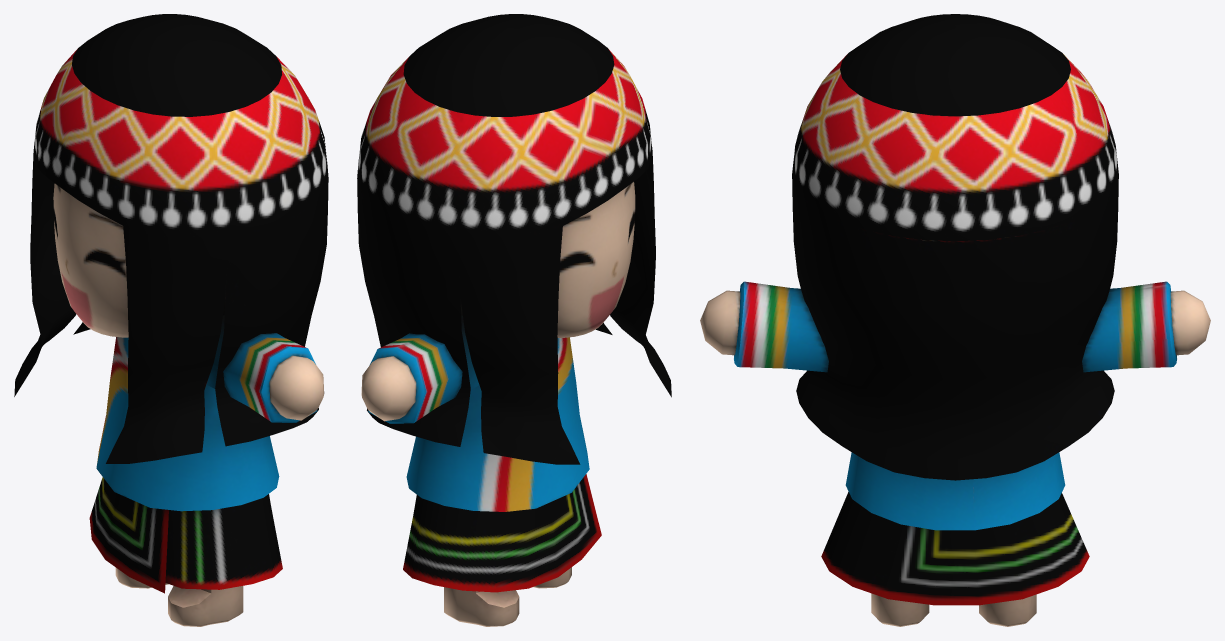
The model's file is women.gltf.
3 renders of one model, left to right at view 1: azimuth 30°, elevation 25°; view 2: azimuth 150°, elevation 25°; view 3: azimuth 270°, elevation 25°, orthographic. The views are drawn at different scales.
Visible parts, largest first — view 1: Cylinder002; view 2: Cylinder002; view 3: Cylinder002.
Part boxes in pixels (x1,y1,x2,y2): Cylinder002: (14, 14, 328, 626); Cylinder002: (357, 14, 671, 626); Cylinder002: (700, 14, 1210, 626).
Bounding box in the file's own units: 122 × 269 × 214.
1 material, 1 textured.
